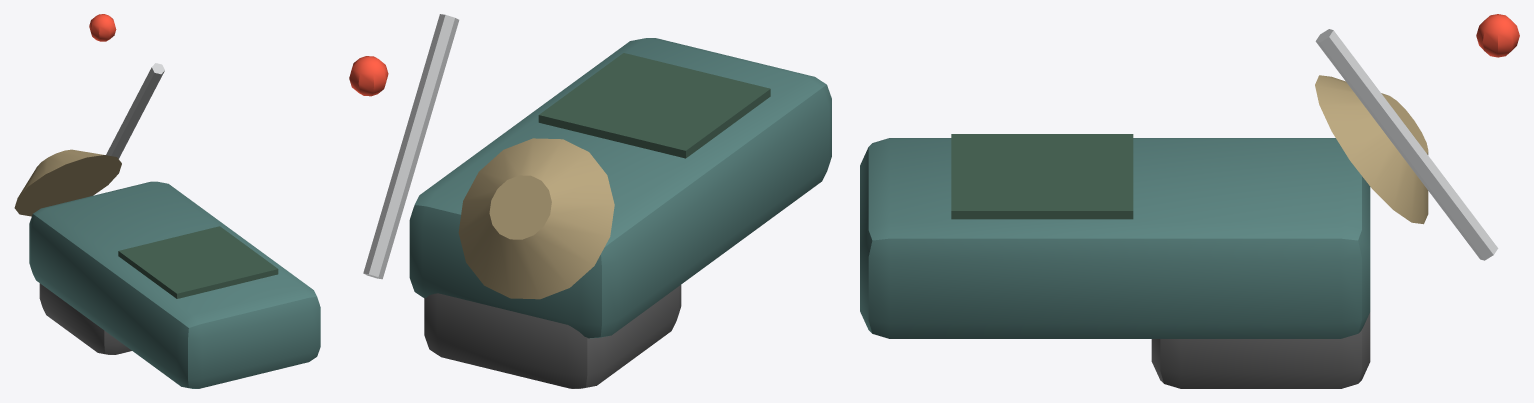
Rendered from tracker_device.glb.
3 views of the same model, side by side, from view 1: azimuth 30°, elevation 25°; view 2: azimuth 150°, elevation 25°; view 3: azimuth 270°, elevation 25° (orthographic). The views are drawn at different scales.
Parts seen in each view (by area): view 1: tracker_device; view 2: tracker_device; view 3: tracker_device.
Part boxes in pixels (x1,y1,x2,y2): tracker_device: (14, 14, 320, 388); tracker_device: (349, 14, 831, 388); tracker_device: (860, 14, 1519, 388).
Size of the model in its own units: 0.072 by 0.114 by 0.181.
